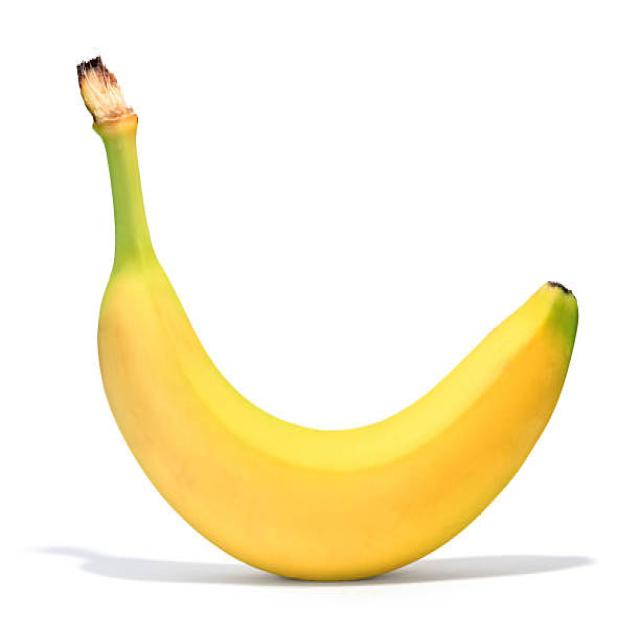banana: (94, 108, 579, 577)
